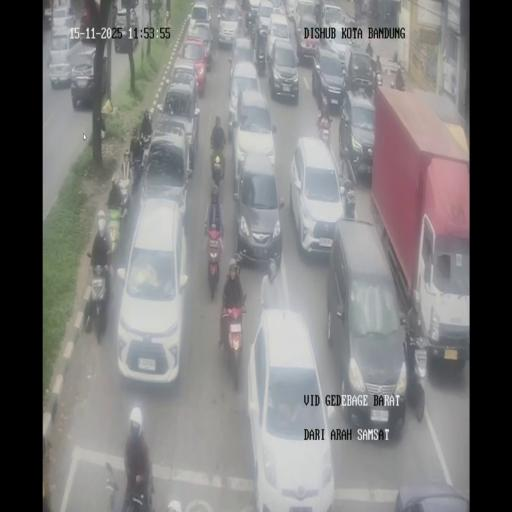3: (371, 89, 470, 373)
car: (249, 310, 334, 507), (116, 196, 190, 387), (290, 135, 346, 260), (234, 149, 284, 269), (141, 121, 195, 216), (340, 87, 376, 180), (227, 58, 261, 140), (70, 45, 106, 109), (311, 47, 346, 112), (268, 39, 299, 103), (48, 28, 76, 88), (296, 1, 322, 60), (345, 46, 375, 96), (168, 58, 200, 104), (186, 20, 213, 70), (114, 4, 138, 53), (218, 0, 242, 48), (51, 4, 76, 32), (244, 0, 262, 36), (320, 2, 342, 27), (189, 1, 210, 24), (268, 0, 286, 18), (284, 0, 298, 20), (340, 11, 356, 28), (42, 5, 52, 30), (360, 1, 368, 15)
truck: (218, 295, 247, 387), (107, 455, 155, 510), (84, 254, 112, 342), (402, 330, 426, 422), (204, 226, 224, 296), (106, 200, 126, 262), (40, 440, 54, 510), (129, 143, 146, 192), (342, 174, 356, 219), (254, 28, 267, 74), (139, 109, 153, 148), (316, 112, 332, 144), (210, 152, 224, 188), (371, 52, 382, 89), (391, 74, 405, 92), (370, 2, 381, 24), (98, 112, 106, 138), (365, 42, 373, 58), (208, 0, 214, 18), (218, 0, 225, 15)
